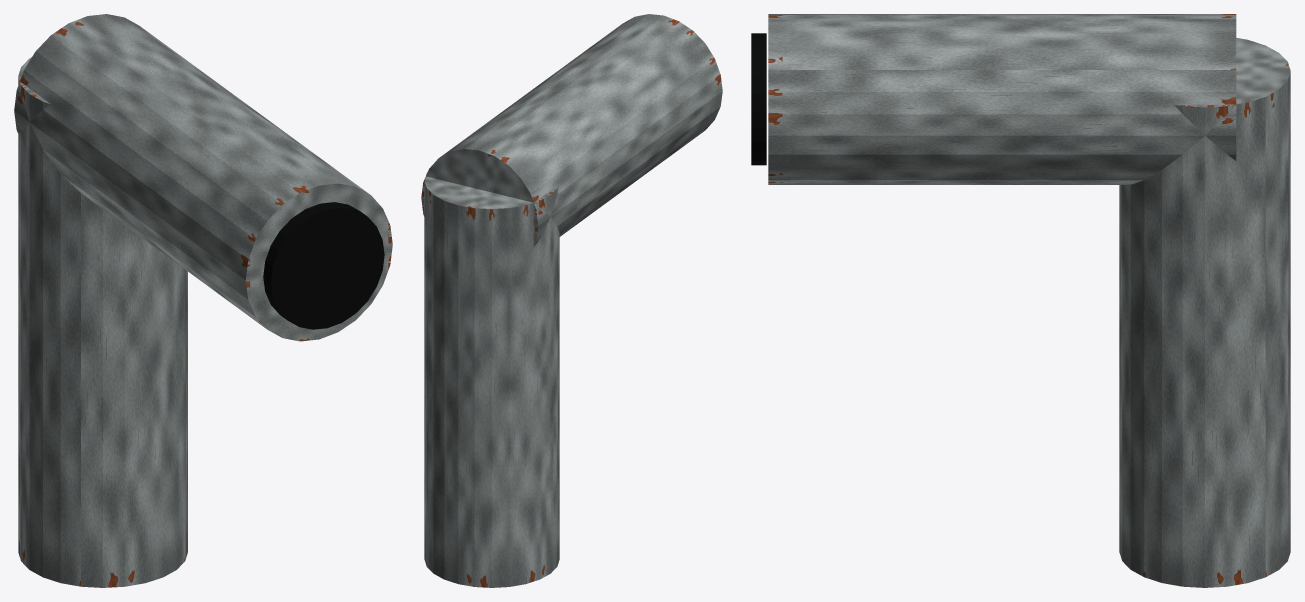
Rendered from Part_ExhaustPivot.obj.
The picture shows the model from 3 angles, left to right: view 1: azimuth 30°, elevation 25°; view 2: azimuth 150°, elevation 25°; view 3: azimuth 270°, elevation 25°; orthographic projection. The views are drawn at different scales.
Visible parts, largest first — view 1: ExhaustUpright, ExhaustElbow, ExhaustMouth; view 2: ExhaustUpright, ExhaustElbow; view 3: ExhaustUpright, ExhaustElbow, ExhaustMouth.
Part boxes in pixels (x1=…): ExhaustUpright: x1=18, y1=57, x2=187, y2=587; ExhaustElbow: x1=14, y1=14, x2=392, y2=341; ExhaustMouth: x1=263, y1=202, x2=384, y2=329; ExhaustUpright: x1=424, y1=173, x2=559, y2=587; ExhaustElbow: x1=421, y1=14, x2=722, y2=246; ExhaustUpright: x1=1119, y1=38, x2=1290, y2=587; ExhaustElbow: x1=768, y1=14, x2=1236, y2=184; ExhaustMouth: x1=751, y1=33, x2=766, y2=165.
Bounding box in the file's own units: 0.11 × 0.375 × 0.346.
2 materials, 1 textured.
